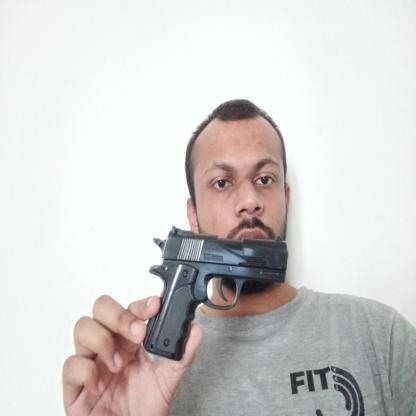handgun: (143, 227, 290, 362)
